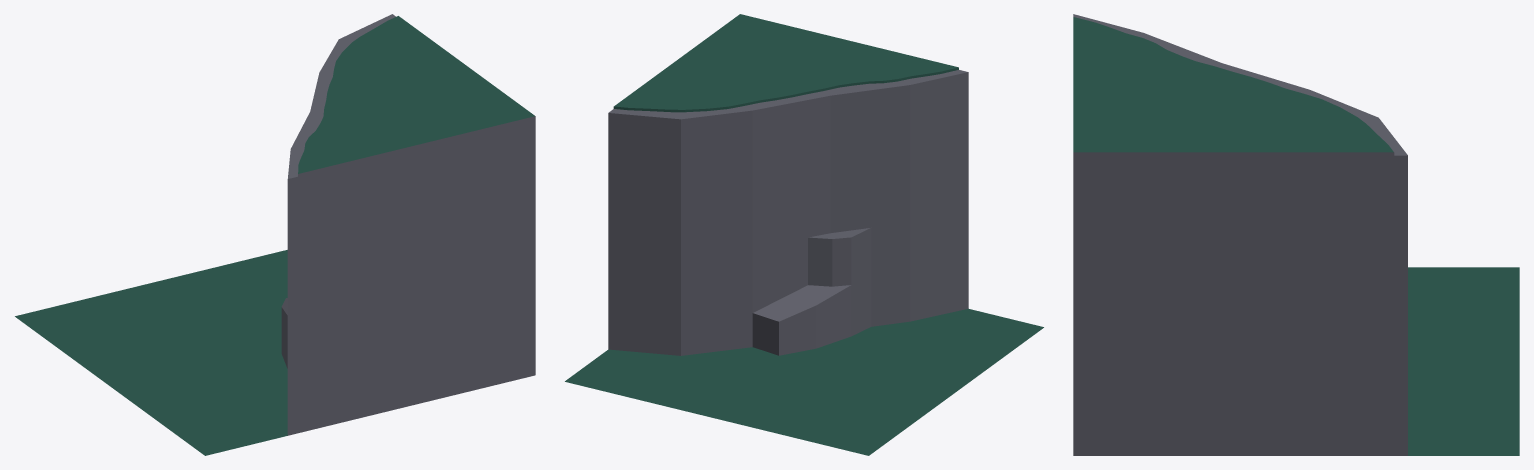
The model's file is WFCCorner.fbx.
3 renders of one model, left to right at view 1: azimuth 30°, elevation 25°; view 2: azimuth 150°, elevation 25°; view 3: azimuth 270°, elevation 25°, orthographic. The views are drawn at different scales.
Parts seen in each view (by area): view 1: Plane; view 2: Plane; view 3: Plane.
Boxes of the visible parts, left/top/right/bottom form: Plane: left=15, top=14, right=535, bottom=455; Plane: left=565, top=14, right=1043, bottom=455; Plane: left=1073, top=14, right=1519, bottom=455.
Bounding box in the file's own units: 100 × 75 × 100.
